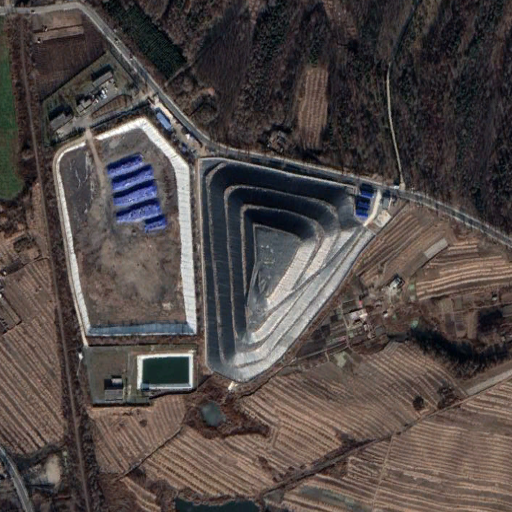lf: (197, 159, 379, 383)
